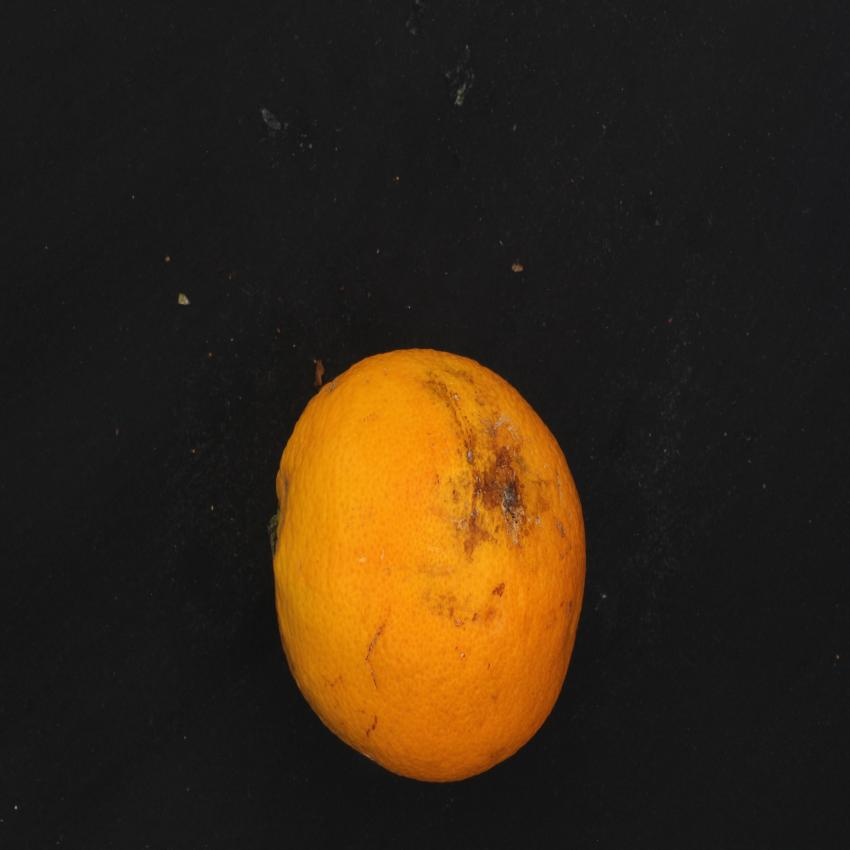Buen estado: (264, 337, 607, 793)
